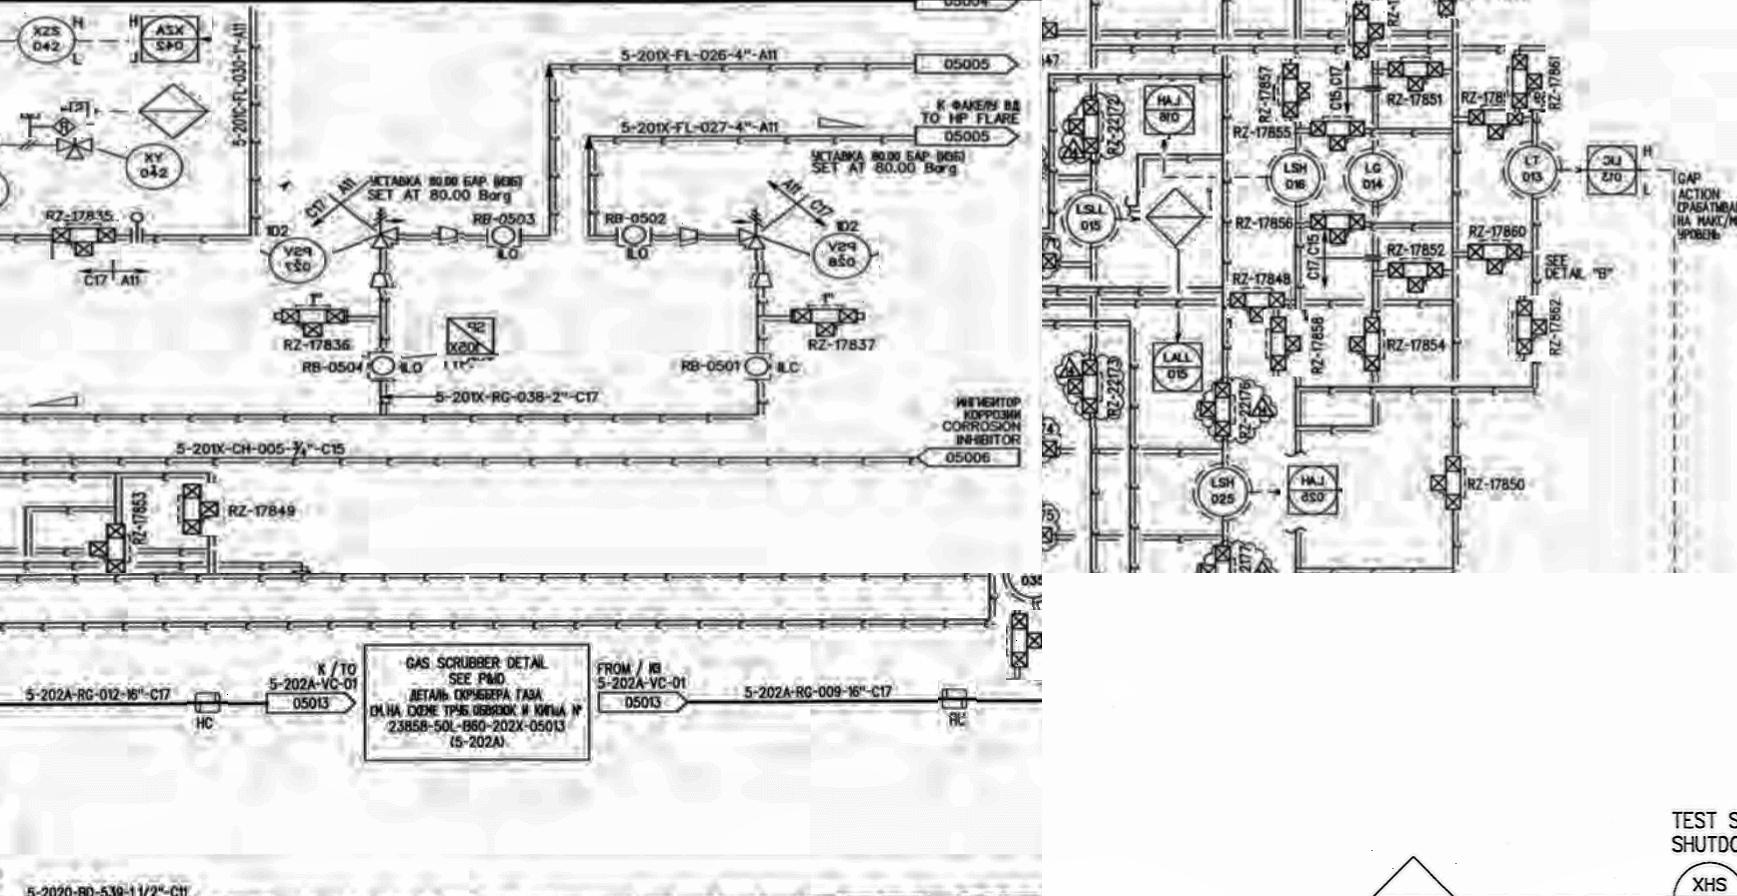2 WAY VALVE: (781, 299, 872, 341), (270, 299, 357, 341), (1059, 91, 1107, 159), (1265, 310, 1310, 378), (1460, 235, 1529, 279), (1380, 53, 1449, 96), (1067, 349, 1105, 427), (47, 219, 119, 259), (1227, 285, 1292, 328), (1505, 45, 1546, 112), (1347, 310, 1388, 376), (1507, 296, 1548, 361), (1195, 376, 1236, 441), (1384, 258, 1454, 296), (1428, 449, 1468, 514), (1345, 0, 1388, 59), (1465, 101, 1529, 141), (1006, 610, 1042, 680), (85, 520, 133, 573), (1308, 114, 1371, 154), (178, 483, 225, 536), (1304, 210, 1372, 246), (1275, 59, 1310, 123), (1192, 539, 1239, 573), (1042, 15, 1064, 58), (1428, 0, 1472, 21), (1042, 243, 1060, 291), (1042, 433, 1060, 473), (1042, 522, 1058, 561)
3 WAY GENERAL VALVE: (56, 130, 97, 162)
ANGLE RELIEF VALVE: (734, 200, 775, 259), (363, 202, 406, 256)
BLIND SPADE OPEN: (122, 206, 152, 248)
CONCENTRIC REDUCER: (432, 224, 466, 248), (674, 223, 706, 248), (744, 270, 777, 294), (370, 270, 397, 293)
DCS ACCESSIBLE: (129, 9, 213, 72), (1580, 134, 1641, 202), (1280, 457, 1342, 521), (1134, 80, 1198, 141), (1148, 336, 1209, 397)
DUPLEX RECEPTACLE: (939, 681, 978, 718), (187, 691, 229, 717)
FIELD INSTRUMENT: (1185, 463, 1258, 523), (1063, 184, 1124, 251), (1263, 149, 1326, 210), (1340, 151, 1404, 210), (1500, 139, 1566, 197), (262, 238, 335, 288), (811, 232, 881, 282), (16, 13, 79, 64), (127, 143, 186, 194), (998, 573, 1042, 607), (615, 218, 656, 254), (362, 349, 403, 379), (488, 219, 525, 249), (745, 353, 777, 383)
HARDWIRED INTERLOCK FIELD: (21, 113, 87, 137)
HARDWIRED INTERLOCK PRIMARY.: (133, 80, 214, 139), (1363, 850, 1465, 896), (1140, 187, 1214, 249)
PANEL INSTRUMENT: (1666, 862, 1737, 896)
REVISION TRIANGLE: (1060, 135, 1089, 169), (1244, 549, 1284, 573)
SPECIAL PIPING ITEM: (437, 310, 499, 361)
SPEED FLOW METER: (61, 97, 95, 127)
